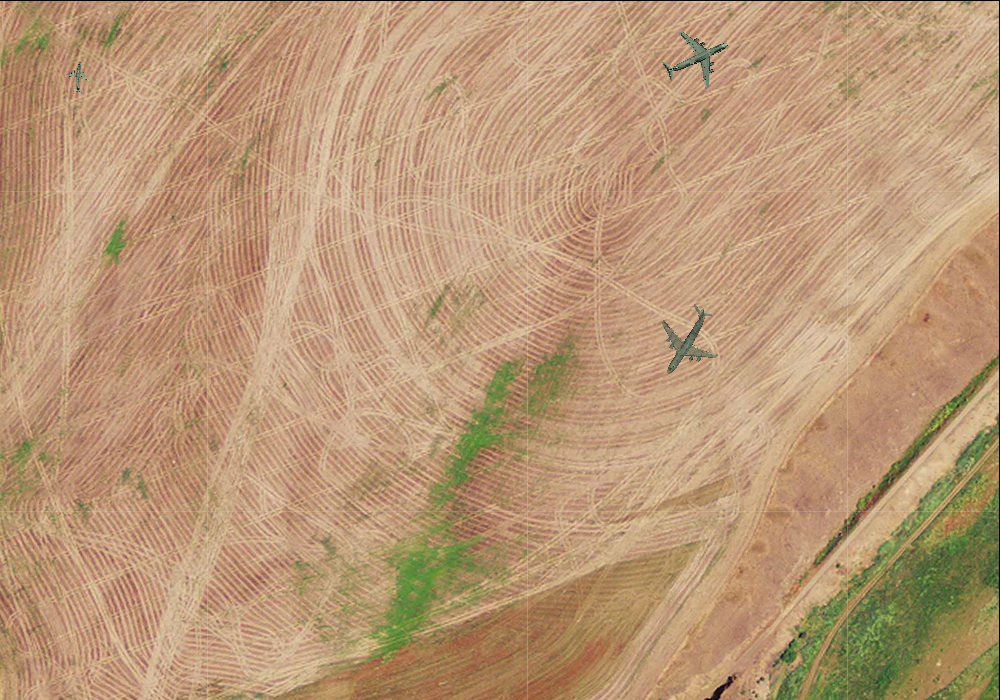plane: (636, 289, 737, 392), (652, 14, 741, 101), (62, 59, 95, 94)
